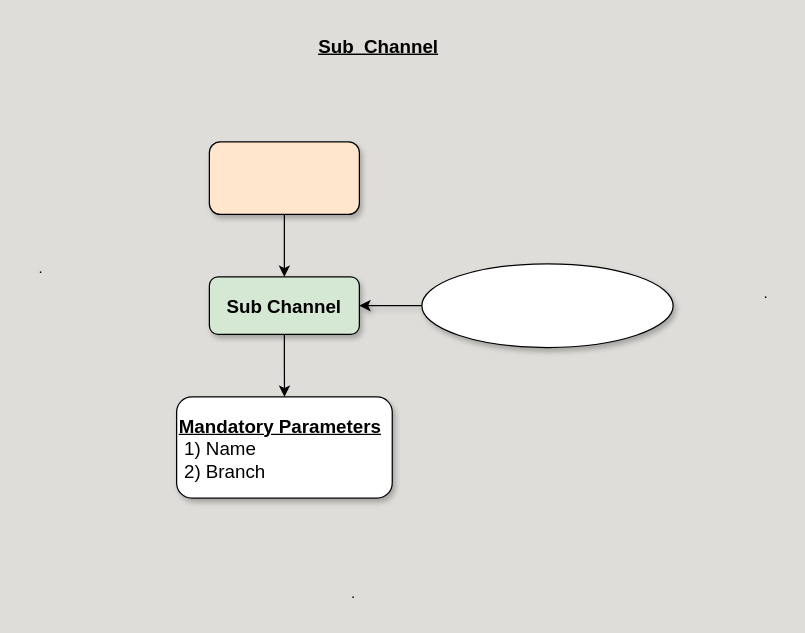
Image size: 805x633. Some labels were removed from this diagram. The centre of each missing label's shape, as x and y in pixels:
"3A Channel" goes at pixel 285 179.
"Manually Created By User" goes at pixel 548 307.
